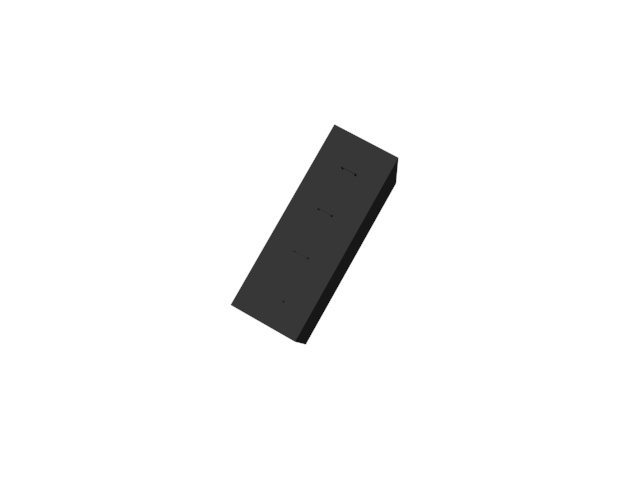file_cabinet: (225, 121, 400, 352)
